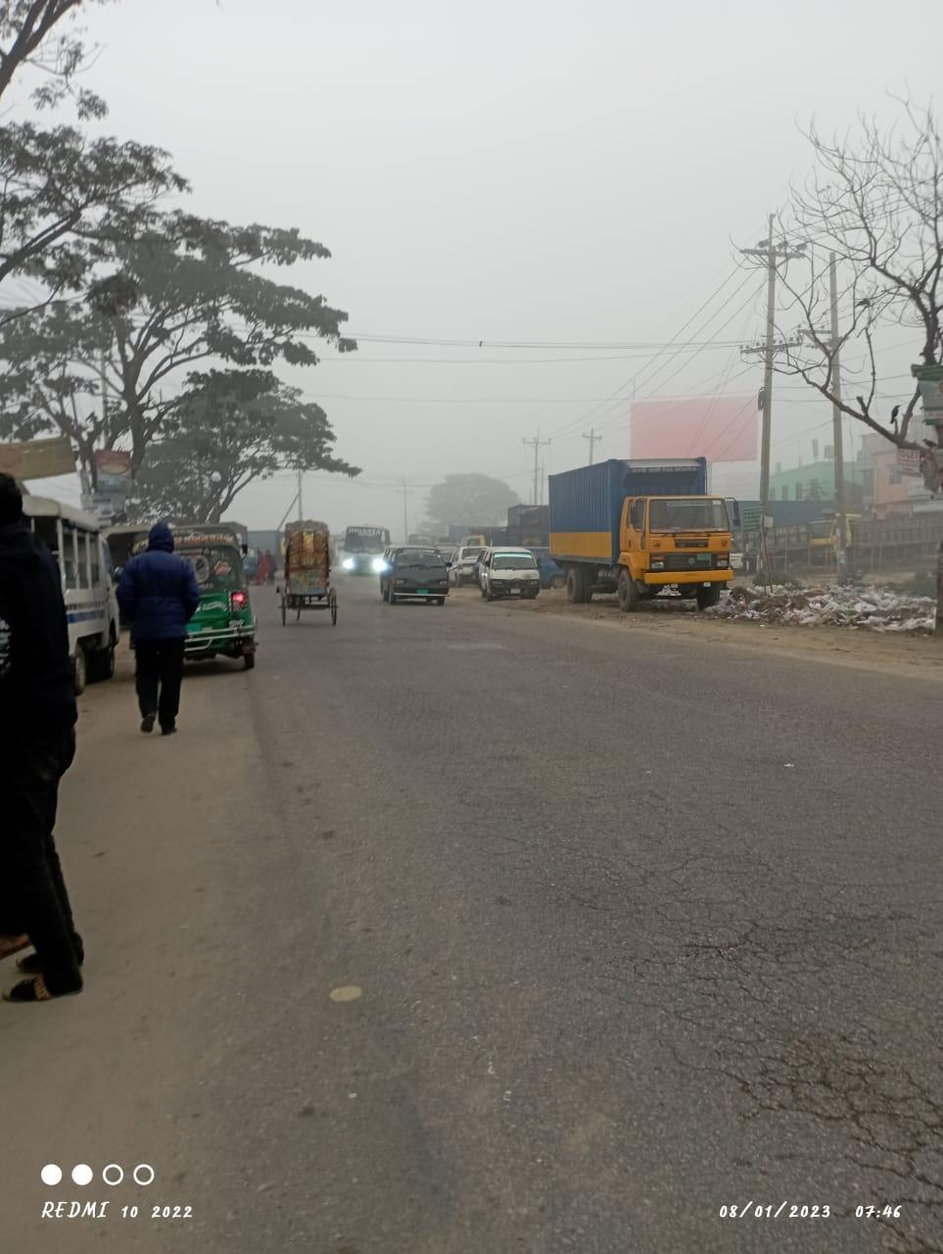Bus: (337, 518, 396, 585)
Car: (278, 512, 345, 634), (377, 530, 460, 607), (474, 541, 548, 611)
Truck: (542, 456, 742, 615)
